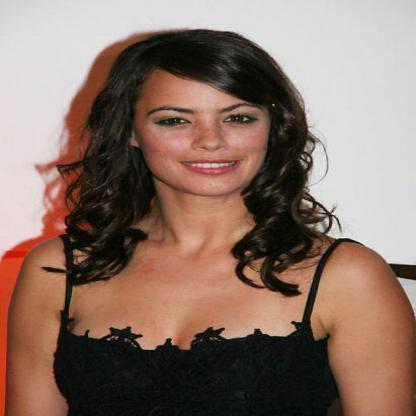long-hair: (38, 196, 360, 244)
